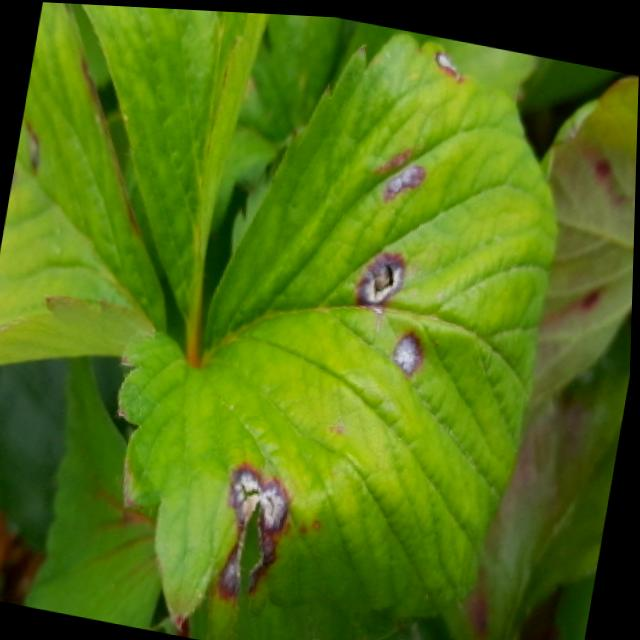Leaf Spot: (117, 26, 557, 640), (0, 2, 169, 364), (529, 67, 639, 412)
